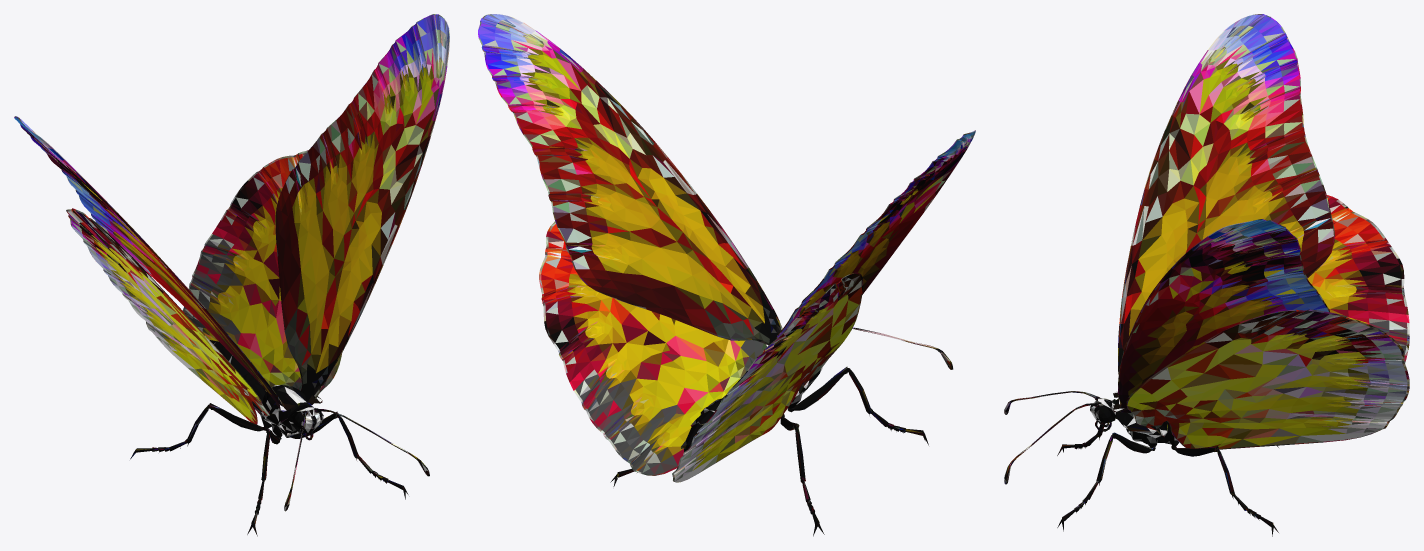
The model's file is butterfly.fbx.
The picture shows the model from 3 angles, left to right: view 1: azimuth 30°, elevation 25°; view 2: azimuth 150°, elevation 25°; view 3: azimuth 270°, elevation 25°; orthographic projection. The views are drawn at different scales.
Parts seen in each view (by area): view 1: batterfly_yellow.001; view 2: batterfly_yellow.001; view 3: batterfly_yellow.001.
Boxes of the visible parts, x1=… form: batterfly_yellow.001: x1=14, y1=14, x2=449, y2=536; batterfly_yellow.001: x1=478, y1=14, x2=975, y2=536; batterfly_yellow.001: x1=1004, y1=14, x2=1409, y2=536.
Size of the model in its own units: 11131 by 9490 by 9260.
